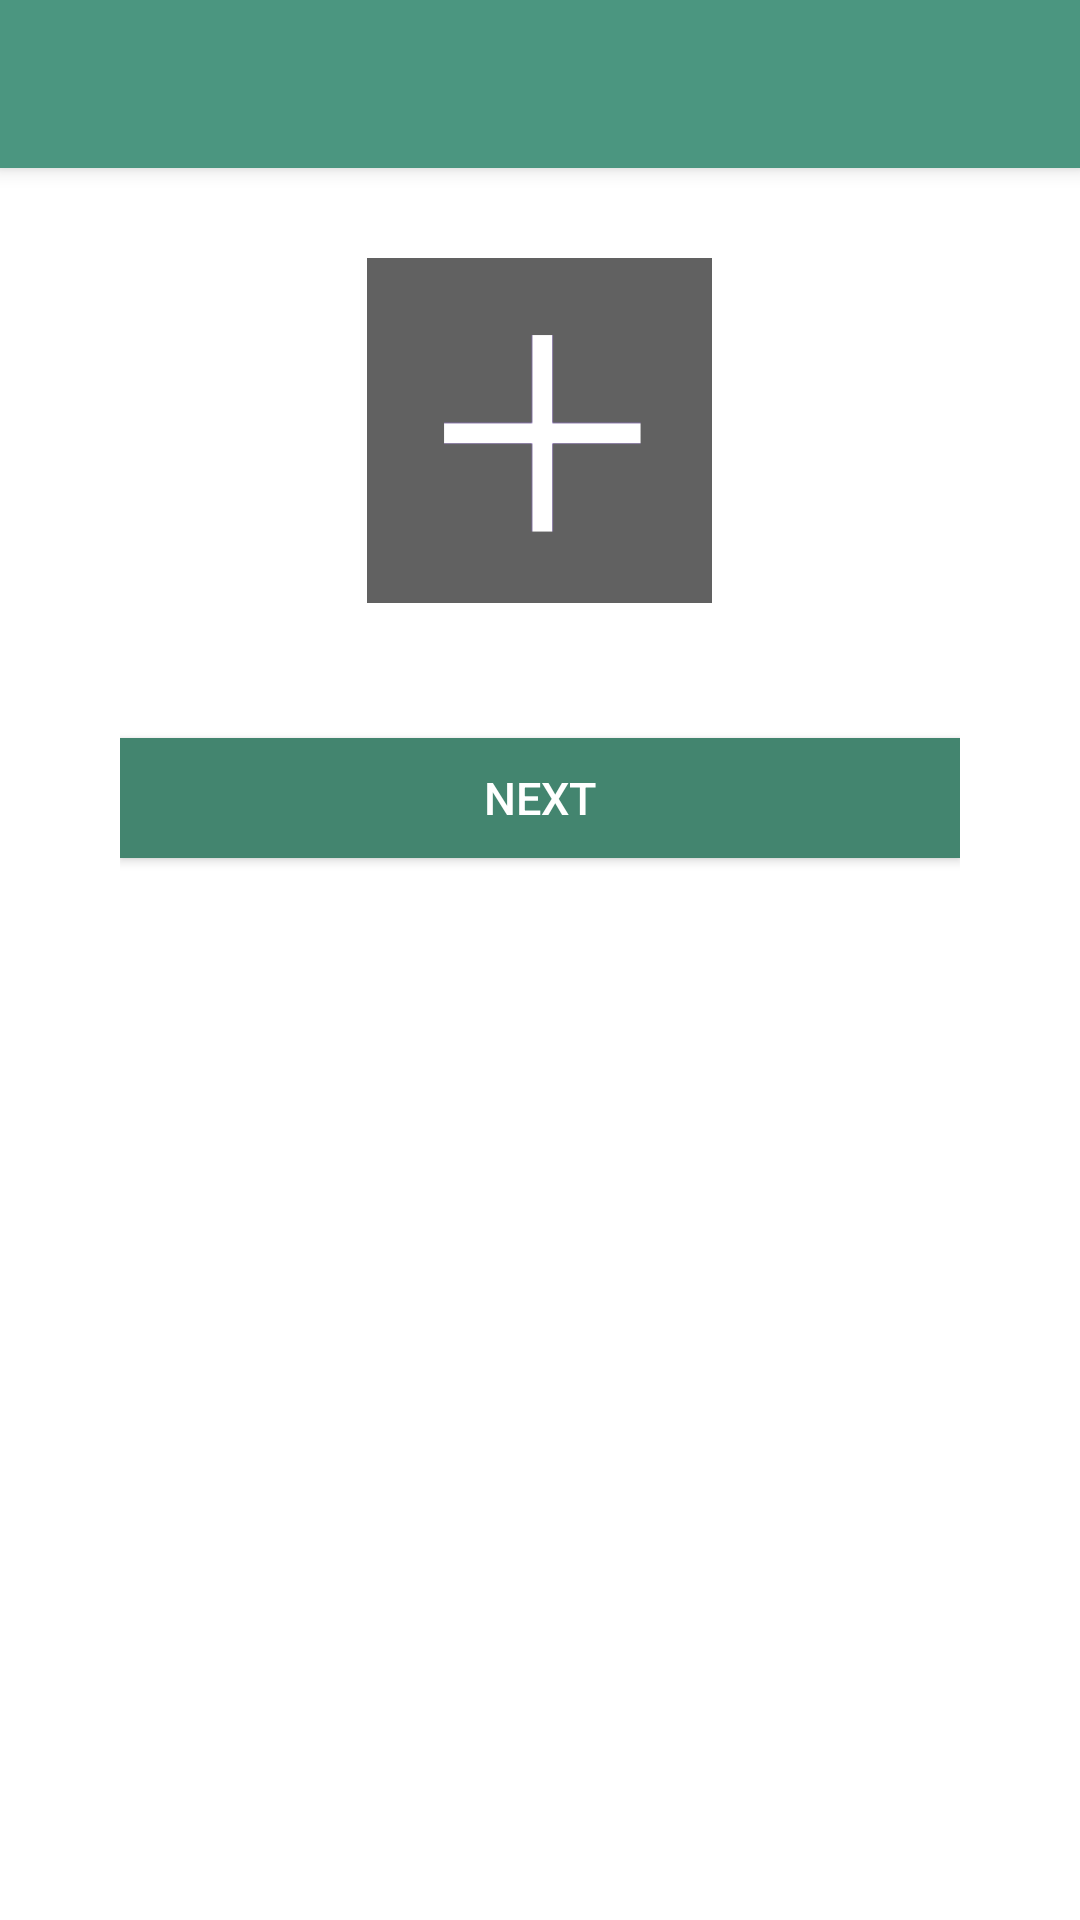

Icons on this 1080px×1920px Android screen, each with its box as (x1, y1, x2, y2):
profilecross: (367, 258, 712, 603)
